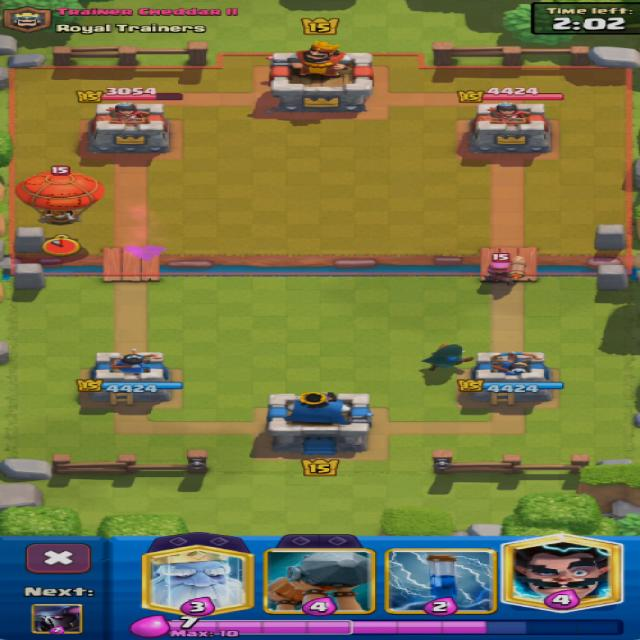Enemy-Balloon: (17, 170, 104, 224)
Enemy-Firecracker: (484, 255, 527, 285)
Enemy-KingTower: (269, 41, 372, 113)
Enemy-PrincessTower: (88, 102, 169, 154), (470, 102, 550, 154)
